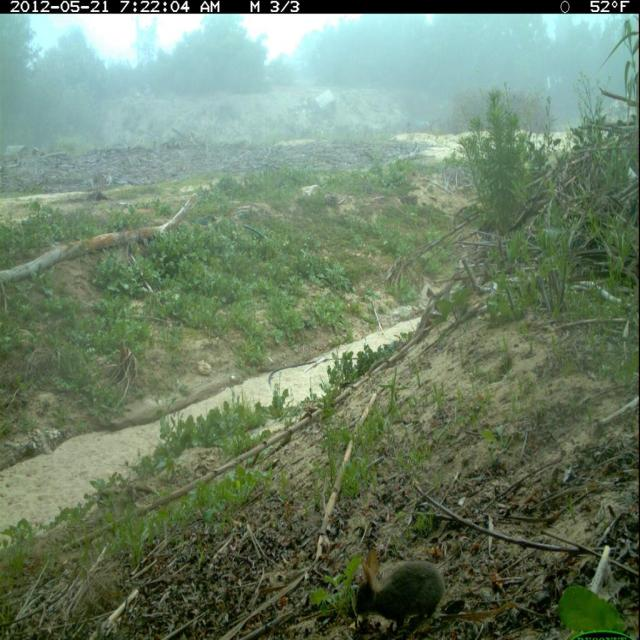rabbit: (350, 542, 449, 639)
